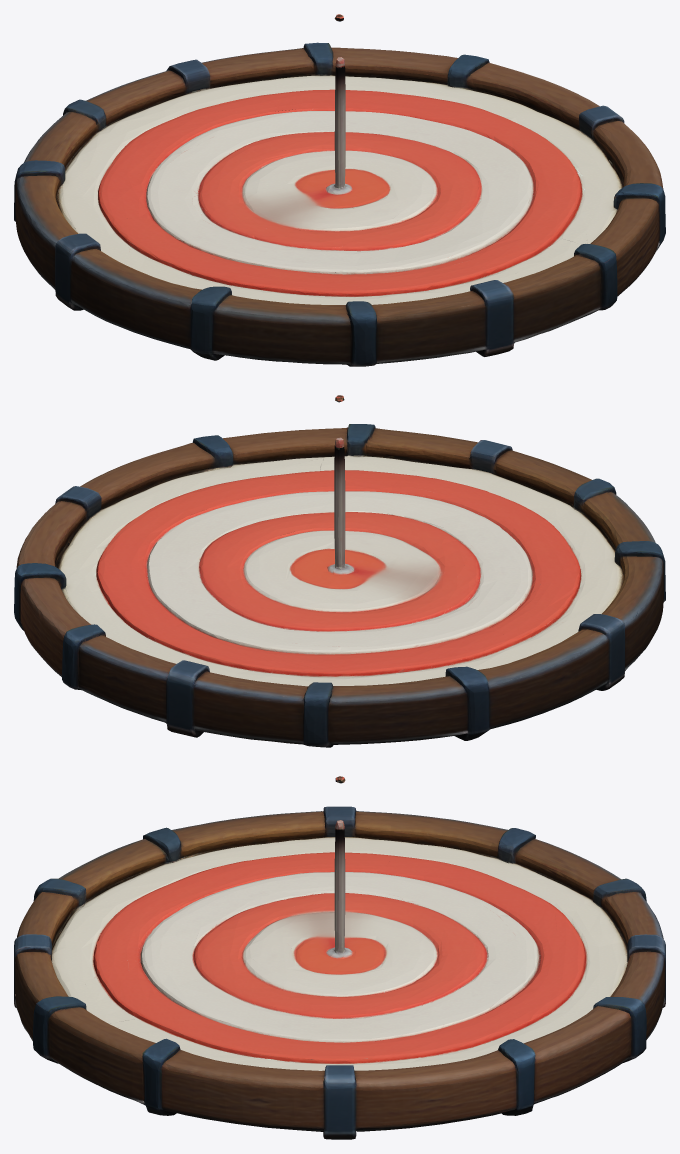
File: cible.glb
3 renders of one model, top to bottom at view 1: azimuth 30°, elevation 25°; view 2: azimuth 150°, elevation 25°; view 3: azimuth 270°, elevation 25°, orthographic.
Parts seen in each view (by area): view 1: world; view 2: world; view 3: world.
Boxes of the visible parts, x1,y1,x2,y2 form: world: (14,14,665,366); world: (14,395,665,747); world: (14,776,665,1139).
Bounding box in the file's own units: 0.7002 × 0.2725 × 0.7001.
Materials: 1 (1 with a texture image).
